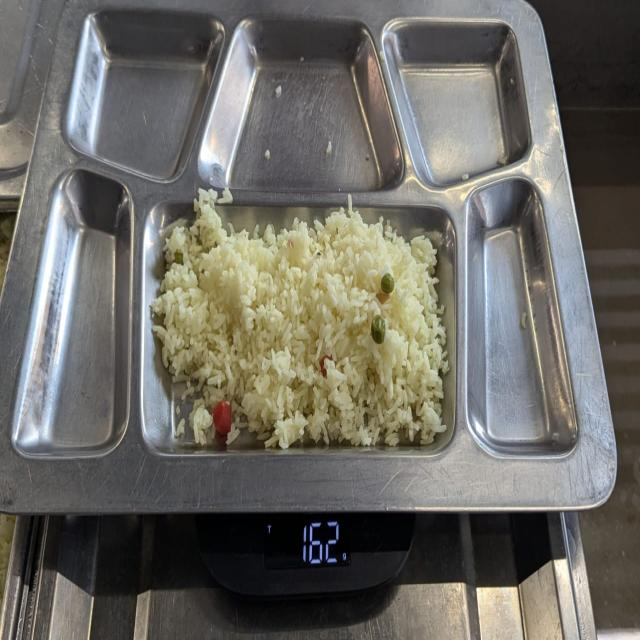Pulao: (153, 190, 449, 450)
